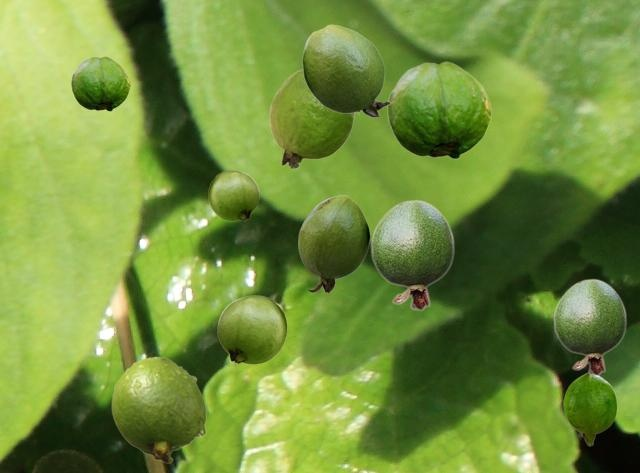guava: (387, 61, 490, 158), (111, 356, 205, 462), (370, 199, 454, 310), (269, 69, 354, 168), (302, 24, 389, 116), (553, 278, 626, 375), (298, 195, 369, 292), (217, 295, 286, 363), (563, 372, 616, 445), (71, 56, 129, 110), (208, 170, 258, 220)
